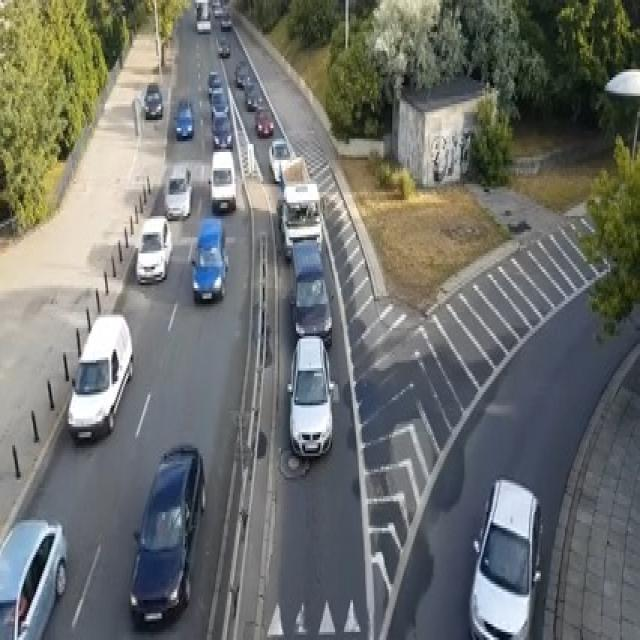car: (128, 442, 206, 626), (468, 478, 542, 638), (66, 312, 132, 443), (0, 518, 68, 638), (286, 333, 334, 459), (288, 240, 332, 344), (280, 181, 322, 259), (191, 216, 228, 301), (135, 213, 171, 283), (207, 149, 236, 211), (164, 162, 192, 218), (268, 136, 292, 181), (210, 110, 233, 150), (140, 83, 162, 117), (175, 98, 192, 138), (210, 86, 228, 118), (254, 107, 273, 136), (245, 83, 263, 109), (234, 59, 250, 88), (196, 0, 210, 32), (206, 69, 221, 96), (216, 35, 230, 56), (220, 11, 232, 29), (212, 0, 222, 16)
